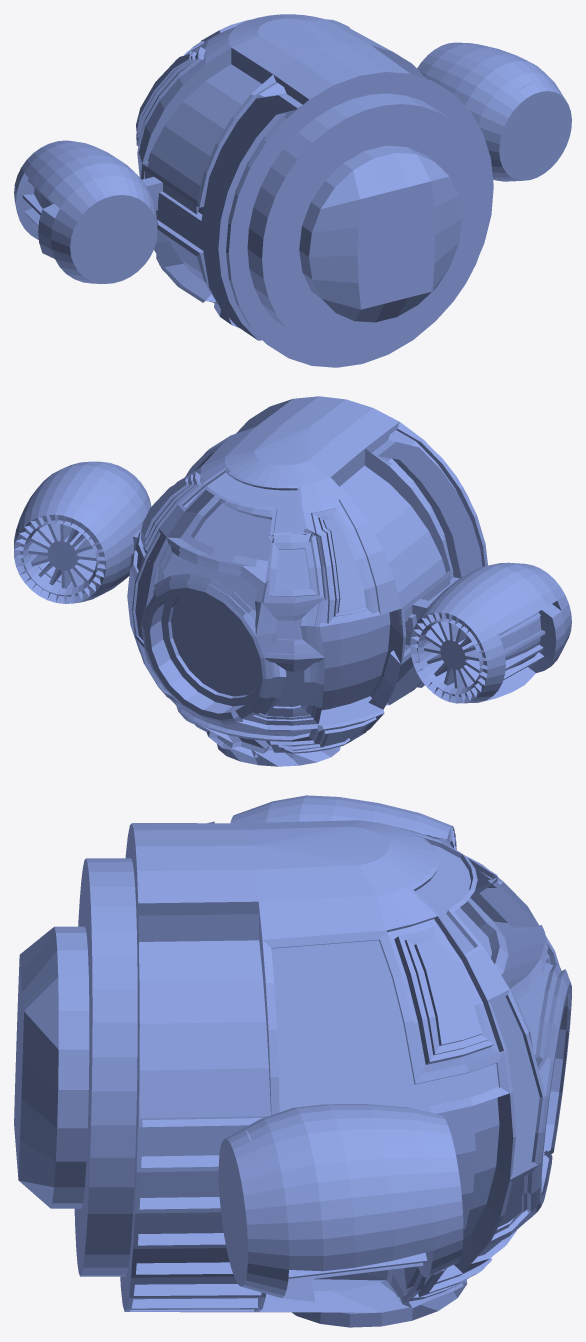
Rendered from spaceship2.glb.
3 views of the same model, one above another, from view 1: azimuth 30°, elevation 25°; view 2: azimuth 150°, elevation 25°; view 3: azimuth 270°, elevation 25° (orthographic). The views are drawn at different scales.
Visible parts, largest first — view 1: Cylinder.005; view 2: Cylinder.005; view 3: Cylinder.005.
Part boxes in pixels (<box>): Cylinder.005: <box>14,14,571,367</box>; Cylinder.005: <box>14,396,571,766</box>; Cylinder.005: <box>14,795,571,1327</box>.
Size of the model in its own units: 8.86 by 4.76 by 5.3.
